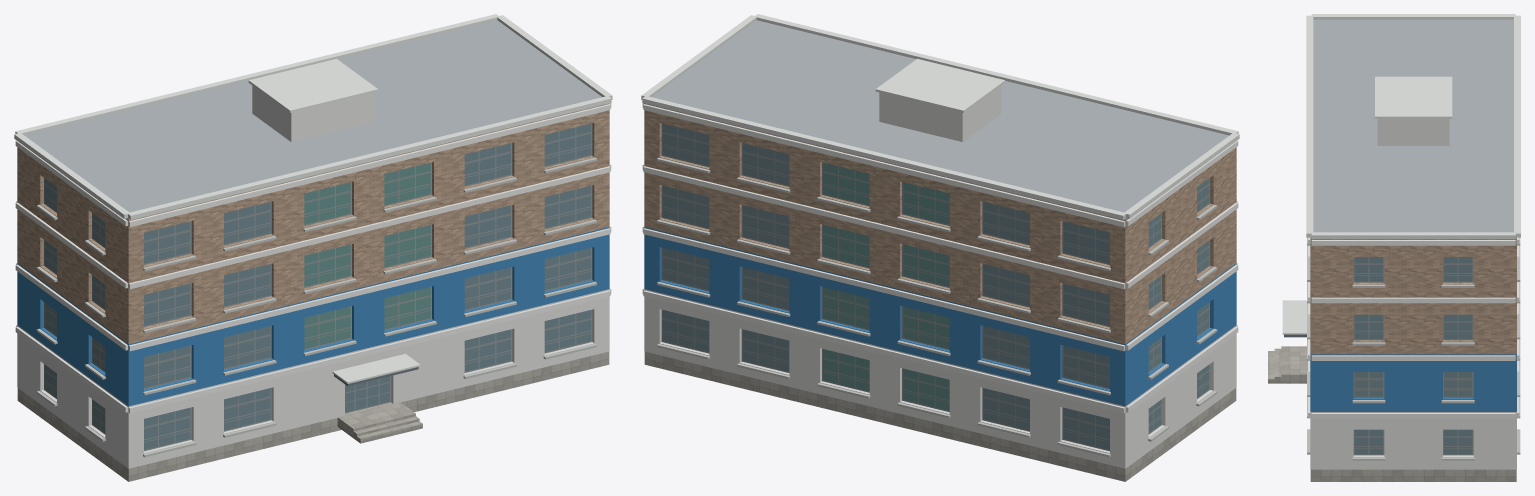
3 views of the same model, side by side, from view 1: azimuth 30°, elevation 25°; view 2: azimuth 150°, elevation 25°; view 3: azimuth 270°, elevation 25° (orthographic). The views are drawn at different scales.
Visible parts, largest first — view 1: library-bridge__buffbrick, library-bridge__metalroof, library-bridge__panel, library-bridge__glass, library-bridge__blue, library-bridge__band, library-bridge__cap, library-bridge__frame, library-bridge__tealglass, library-bridge__stone, library-bridge__sill, library-bridge__stair-front (+1 smaller); view 2: library-bridge__buffbrick, library-bridge__metalroof, library-bridge__panel, library-bridge__glass, library-bridge__blue, library-bridge__band, library-bridge__cap, library-bridge__frame, library-bridge__tealglass, library-bridge__stone, library-bridge__sill; view 3: library-bridge__metalroof, library-bridge__buffbrick, library-bridge__panel, library-bridge__cap, library-bridge__blue, library-bridge__band, library-bridge__glass, library-bridge__stone, library-bridge__frame, library-bridge__sill, library-bridge__threshold-front, library-bridge__stair-front.
Part boxes in pixels (left/top/right/bottom): library-bridge__buffbrick: left=17, top=103, right=609, bottom=343; library-bridge__metalroof: left=25, top=20, right=602, bottom=219; library-bridge__panel: left=17, top=85, right=609, bottom=468; library-bridge__glass: left=44, top=123, right=591, bottom=449; library-bridge__blue: left=17, top=227, right=609, bottom=406; library-bridge__band: left=15, top=103, right=611, bottom=413; library-bridge__cap: left=14, top=14, right=612, bottom=383; library-bridge__frame: left=44, top=123, right=592, bottom=451; library-bridge__tealglass: left=304, top=162, right=430, bottom=348; library-bridge__stone: left=17, top=351, right=609, bottom=481; library-bridge__sill: left=36, top=157, right=596, bottom=457; library-bridge__stair-front: left=350, top=411, right=422, bottom=443; library-bridge__buffbrick: left=644, top=103, right=1236, bottom=343; library-bridge__metalroof: left=651, top=20, right=1228, bottom=219; library-bridge__panel: left=644, top=85, right=1236, bottom=468; library-bridge__glass: left=662, top=123, right=1209, bottom=449; library-bridge__blue: left=644, top=227, right=1236, bottom=406; library-bridge__band: left=642, top=103, right=1238, bottom=413; library-bridge__cap: left=641, top=14, right=1239, bottom=219; library-bridge__frame: left=661, top=123, right=1209, bottom=451; library-bridge__tealglass: left=823, top=162, right=949, bottom=410; library-bridge__stone: left=644, top=351, right=1236, bottom=481; library-bridge__sill: left=657, top=157, right=1217, bottom=457; library-bridge__metalroof: left=1310, top=19, right=1516, bottom=238; library-bridge__buffbrick: left=1310, top=238, right=1516, bottom=354; library-bridge__panel: left=1310, top=118, right=1516, bottom=469; library-bridge__cap: left=1282, top=14, right=1520, bottom=334; library-bridge__blue: left=1310, top=354, right=1516, bottom=411; library-bridge__band: left=1308, top=237, right=1519, bottom=418; library-bridge__glass: left=1354, top=257, right=1472, bottom=454; library-bridge__stone: left=1310, top=469, right=1516, bottom=481; library-bridge__frame: left=1353, top=257, right=1473, bottom=455; library-bridge__sill: left=1307, top=237, right=1520, bottom=460; library-bridge__threshold-front: left=1287, top=346, right=1307, bottom=383; library-bridge__stair-front: left=1268, top=346, right=1287, bottom=383.
Size of the model in its own units: 30.48 by 17.76 by 14.71.
Materials: 13 (2 with a texture image).
